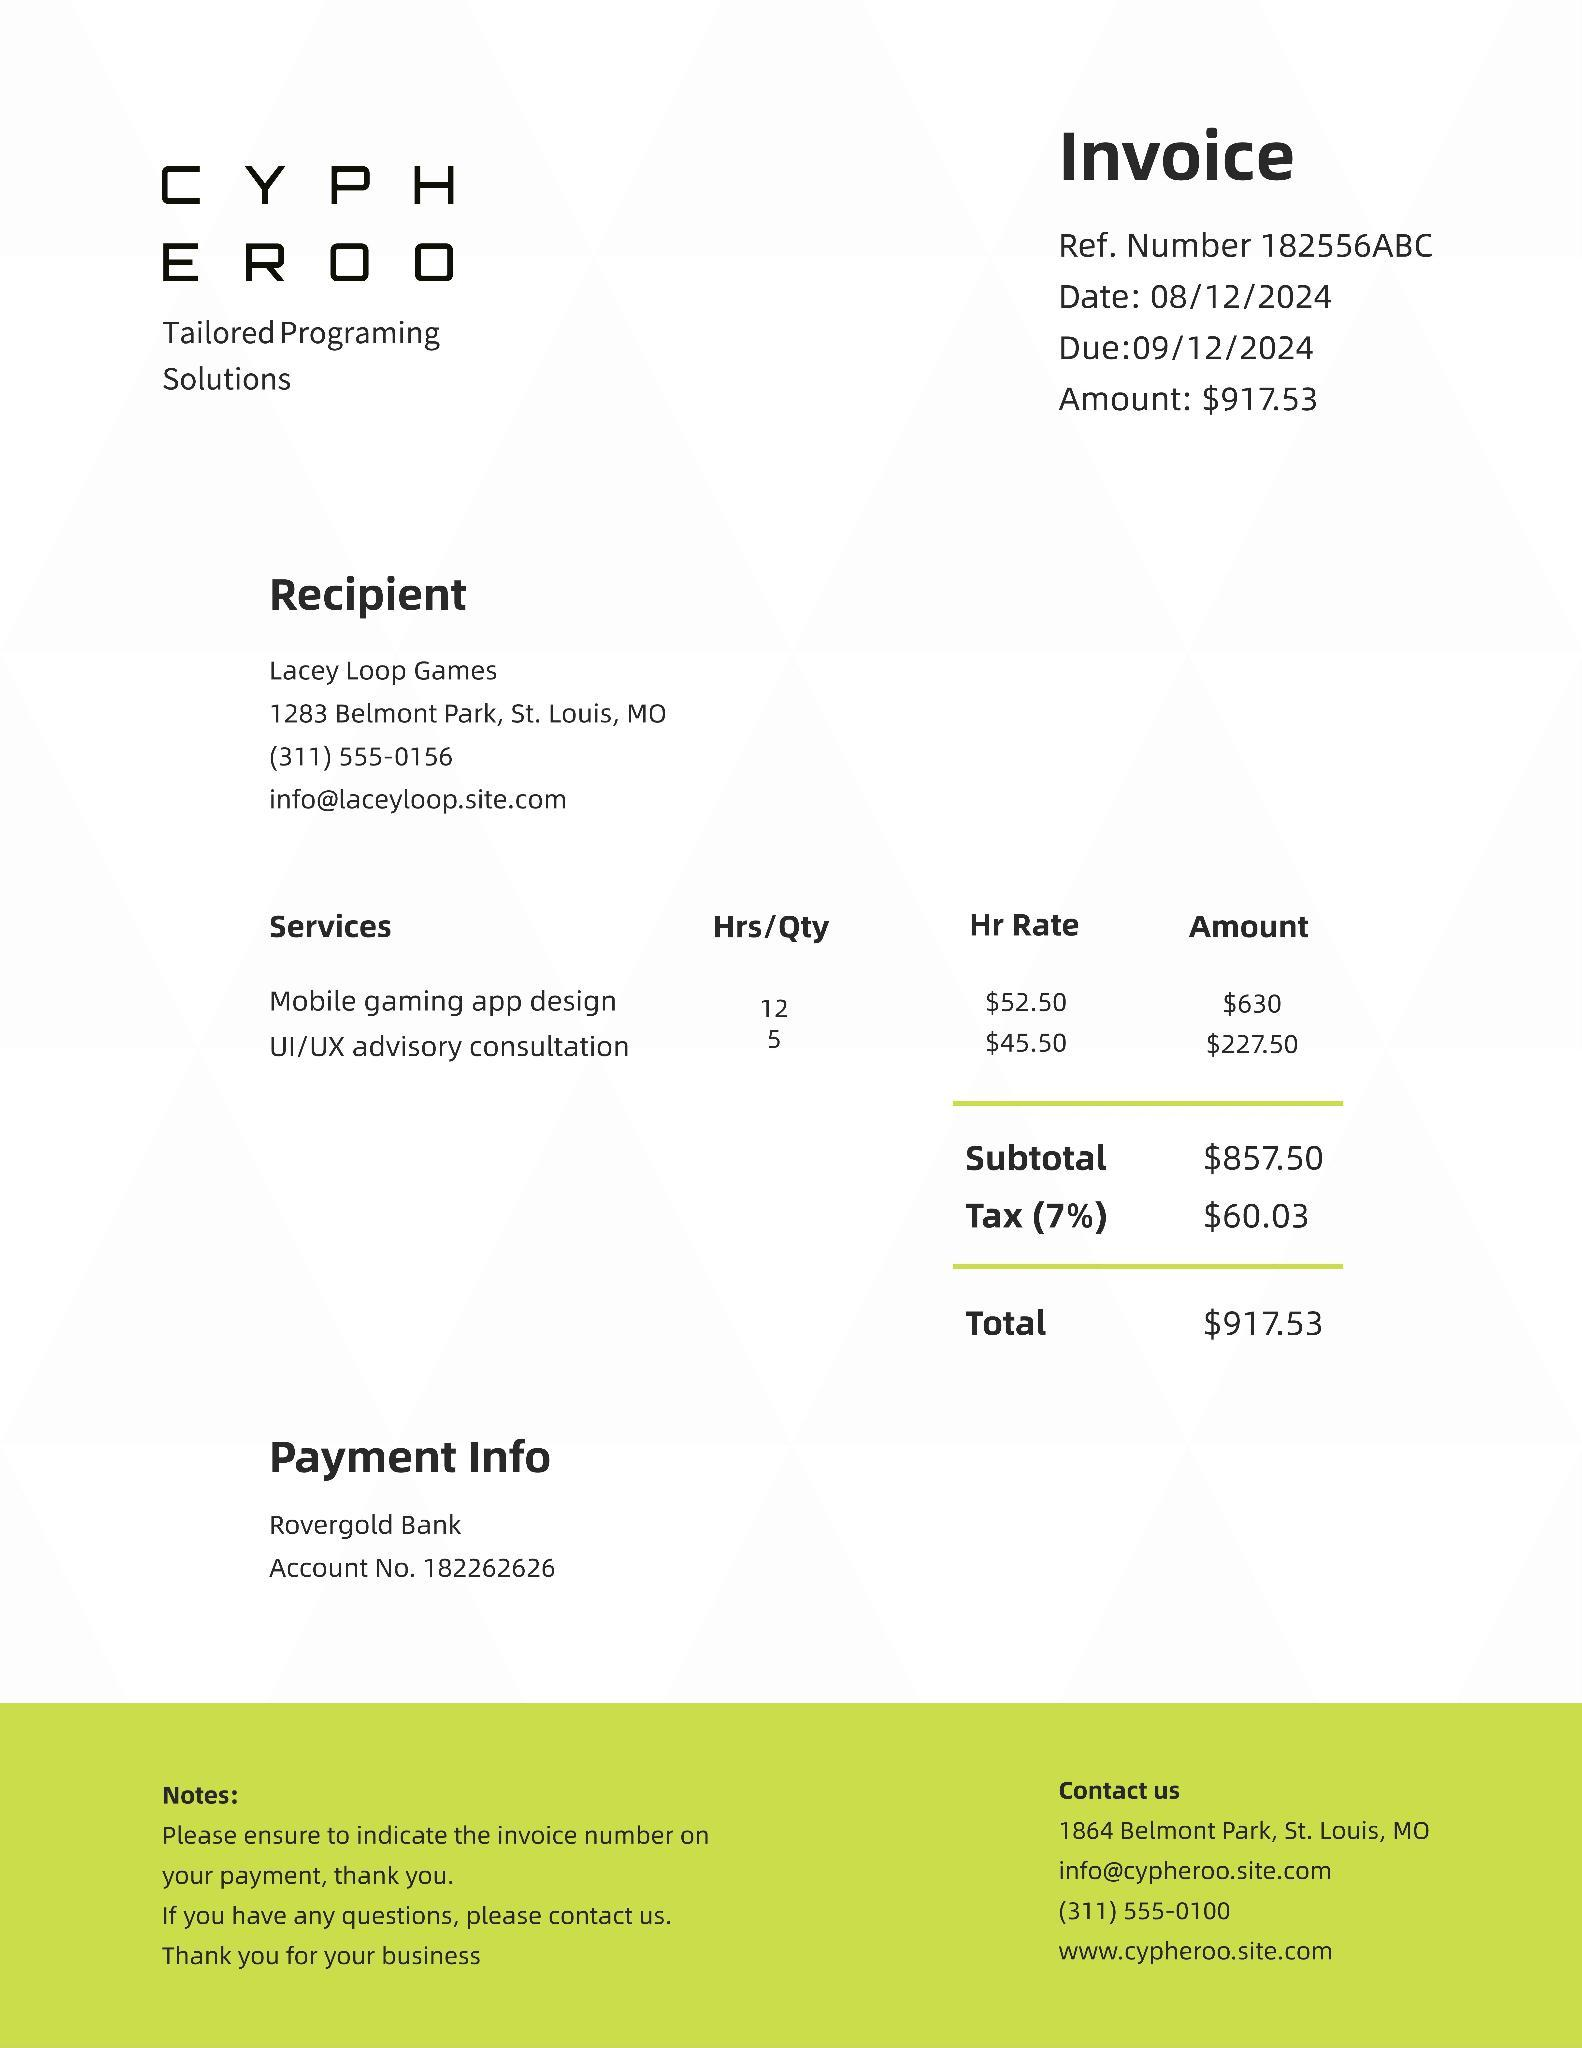ROI: (223, 871, 1341, 1077), (105, 1759, 734, 2001), (252, 513, 679, 850), (1043, 109, 1460, 432), (1024, 1746, 1472, 2010), (929, 1109, 1384, 1368), (112, 148, 510, 413), (213, 1395, 612, 1620)
